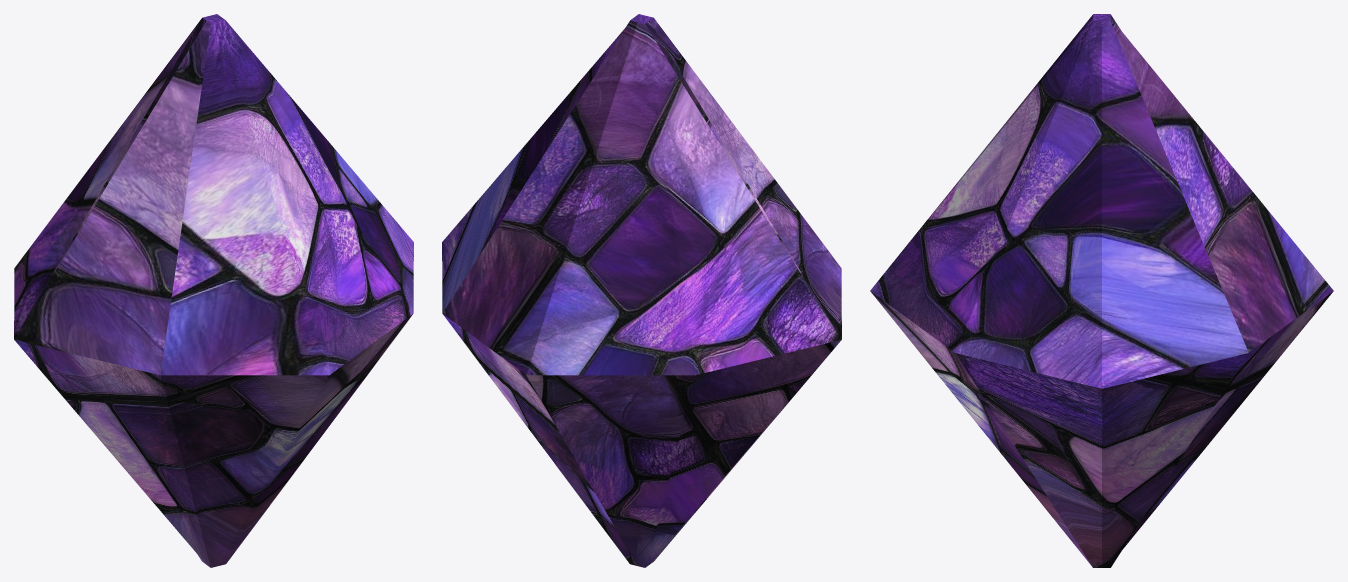
Rendered from gemstone2PurpleCompressed.glb.
3 renders of one model, left to right at view 1: azimuth 30°, elevation 25°; view 2: azimuth 150°, elevation 25°; view 3: azimuth 270°, elevation 25°, orthographic.
Visible parts, largest first — view 1: gemstone1; view 2: gemstone1; view 3: gemstone1.
Boxes of the visible parts, <box> form: gemstone1: <box>14,14,413,567</box>; gemstone1: <box>442,14,841,567</box>; gemstone1: <box>870,14,1333,567</box>.
Size of the model in its own units: 1 by 1.3 by 1.
Materials: 1 (1 with a texture image).
